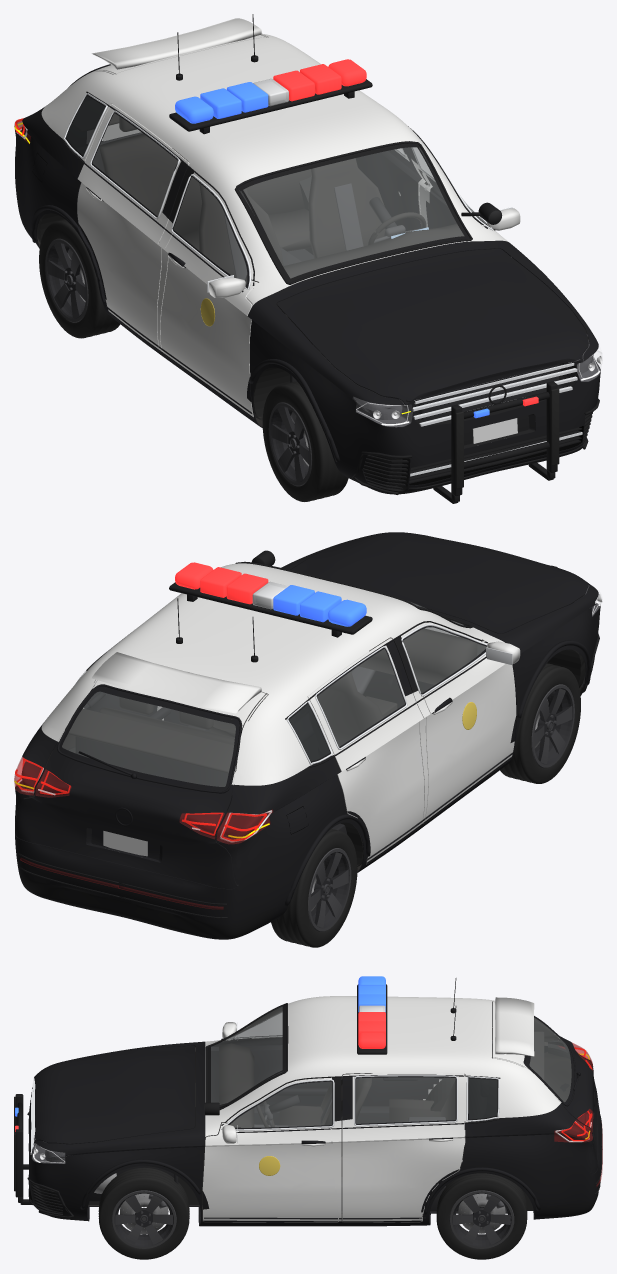
Rendered from patrolSuv-lod0.glb.
The picture shows the model from 3 angles, top to bottom: view 1: azimuth 30°, elevation 25°; view 2: azimuth 150°, elevation 25°; view 3: azimuth 270°, elevation 25°; orthographic projection. The views are drawn at different scales.
Visible parts, largest first — view 1: Body, HoodSkin, Windscreen, Panel_RR, Panel_FR, SeatMesh_Rear_Back, Window_RR, Seat_FL_Back, Window_FR, Wheel_FR_Tyre, Spoiler, Wheel_RR_Tyre (+33 smaller); view 2: Body, HoodSkin, TrunkSkin, RearWindow, Panel_RR, Panel_FR, Window_RR, Spoiler, Cabin_ParcelShelf, Wheel_RR_Tyre, Wheel_FR_Tyre, Dash (+31 smaller); view 3: Body, HoodSkin, Panel_FL, Panel_RL, Windscreen, Window_RL, Wheel_FL_Tyre, Window_FL, Wheel_RL_Tyre, Panel_FR, Wheel_FL_Lip, Wheel_RL_Lip (+29 smaller).
Boxes of the visible parts, x1,y1,x2,y2 form: Body: (15, 33, 600, 494); HoodSkin: (277, 248, 588, 408); Windscreen: (237, 143, 469, 282); Panel_RR: (77, 104, 189, 351); Panel_FR: (160, 234, 258, 418); SeatMesh_Rear_Back: (99, 134, 311, 235); Window_RR: (91, 112, 178, 217); Seat_FL_Back: (308, 158, 385, 258); Window_FR: (172, 176, 249, 288); Wheel_FR_Tyre: (262, 381, 348, 501); Spoiler: (91, 18, 261, 69); Wheel_RR_Tyre: (39, 219, 120, 338); Body: (15, 539, 600, 939); HoodSkin: (291, 532, 588, 633); TrunkSkin: (15, 680, 265, 888); RearWindow: (59, 686, 239, 791); Panel_RR: (307, 638, 424, 863); Panel_FR: (423, 641, 516, 823); Window_RR: (316, 648, 405, 747); Spoiler: (91, 652, 261, 713); Cabin_ParcelShelf: (65, 708, 237, 773); Wheel_RR_Tyre: (271, 829, 357, 947); Wheel_FR_Tyre: (500, 663, 580, 783); Dash: (359, 628, 477, 684); Body: (28, 996, 601, 1226); HoodSkin: (34, 1045, 194, 1144); Panel_FL: (202, 1122, 338, 1222); Panel_RL: (342, 1073, 464, 1222); Windscreen: (207, 1004, 286, 1108); Window_RL: (355, 1076, 456, 1124); Wheel_FL_Tyre: (98, 1167, 189, 1259); Window_FL: (228, 1080, 332, 1129); Wheel_RL_Tyre: (436, 1173, 527, 1259); Panel_FR: (211, 1036, 330, 1106); Wheel_FL_Lip: (111, 1190, 176, 1249); Wheel_RL_Lip: (449, 1190, 514, 1249).
Bounding box in the file's own units: 2.11 × 1.93 × 4.67.
